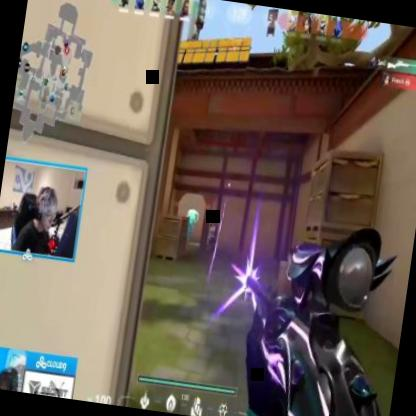enemy: (206, 219, 220, 250)
enemy_head: (211, 221, 214, 226)
